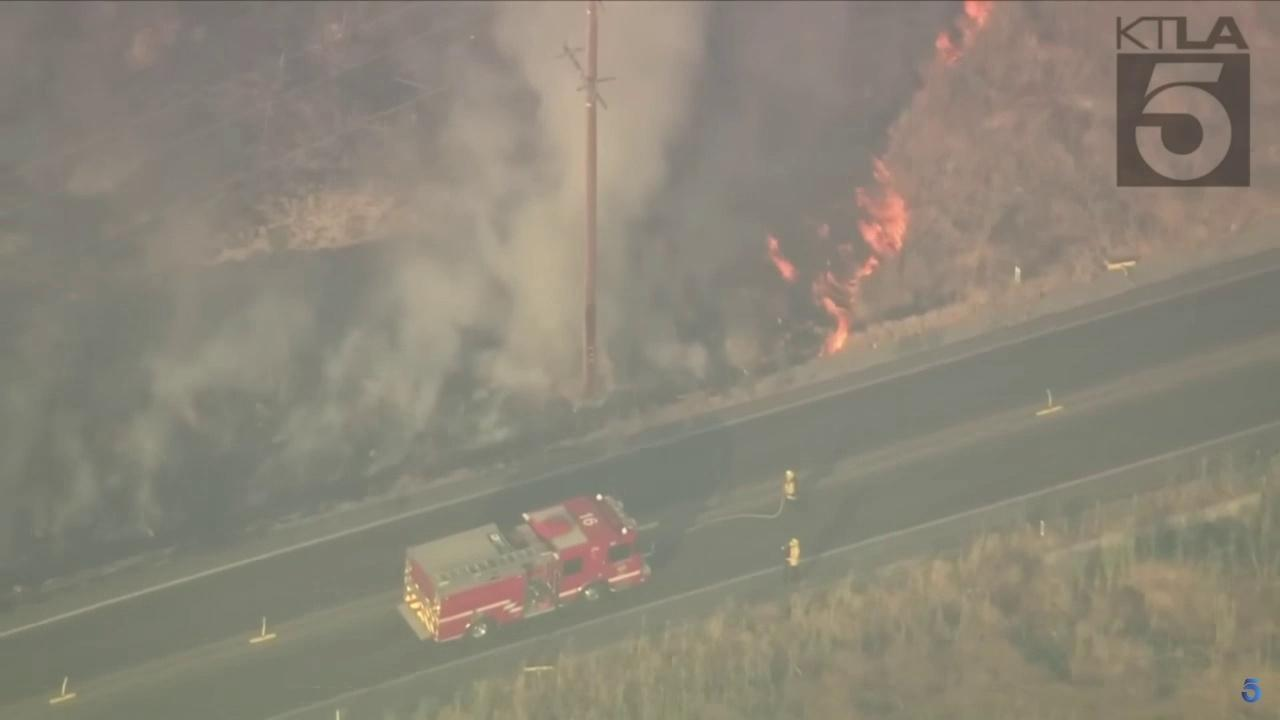fire: (810, 155, 909, 361), (934, 0, 996, 67), (764, 232, 797, 285)
smoke: (0, 0, 941, 574)
